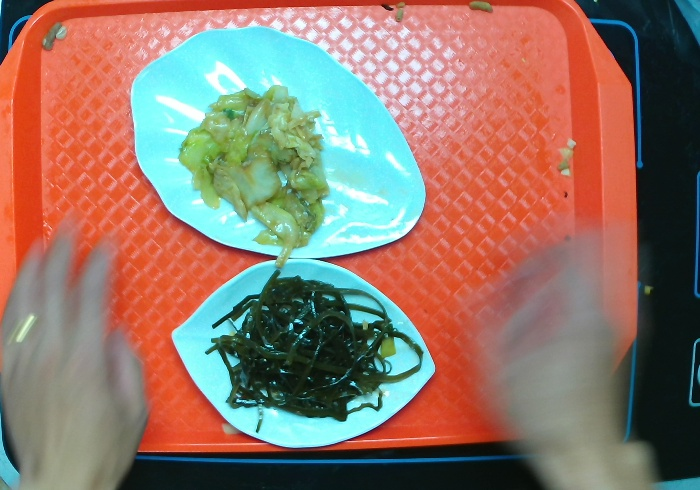RJxy-Bai_Ye_Pan: (124, 26, 433, 263)
RJxy-Da_Du_Pan: (168, 259, 442, 454)
